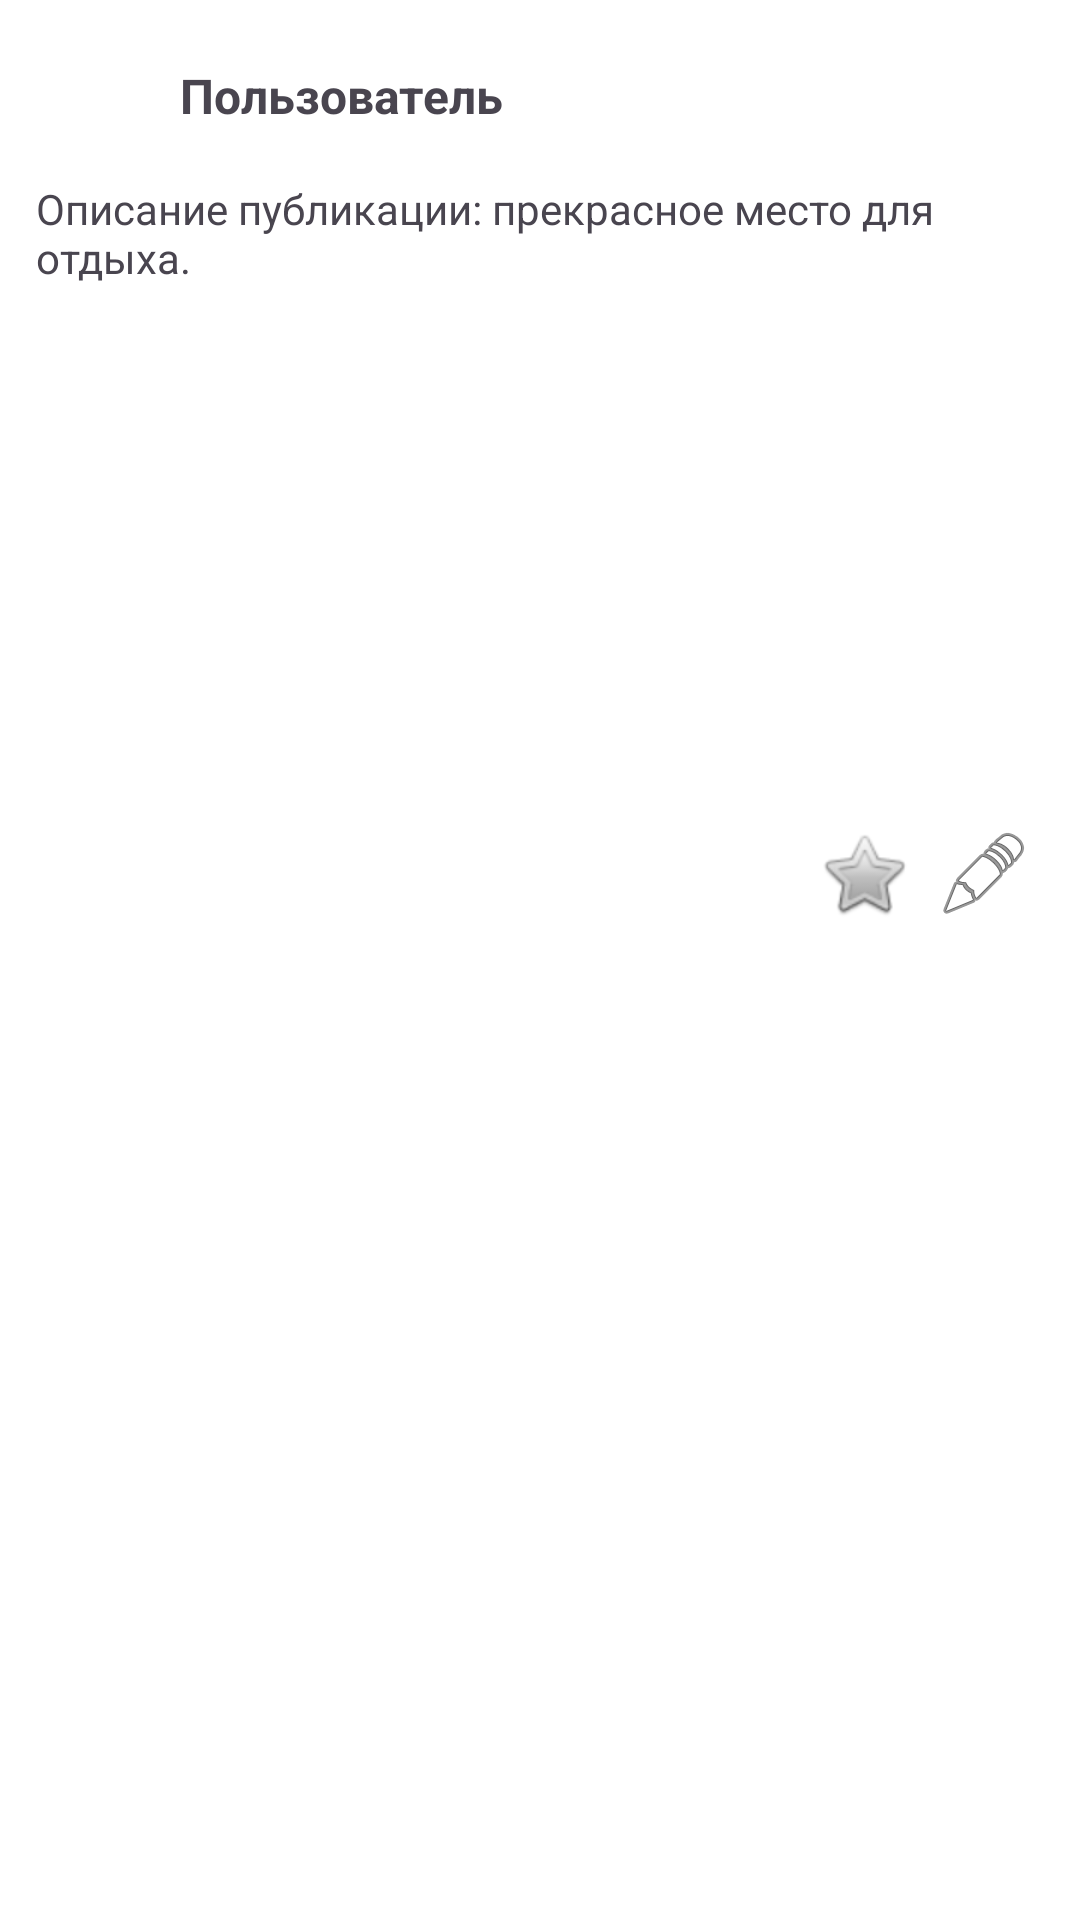

Named icons in this screenshot (1080px×1920px) and their bounding boxes, (x1, y1, x2, y2):
Комментарий: (943, 833, 1024, 914)
Лайк: (825, 836, 905, 914)
